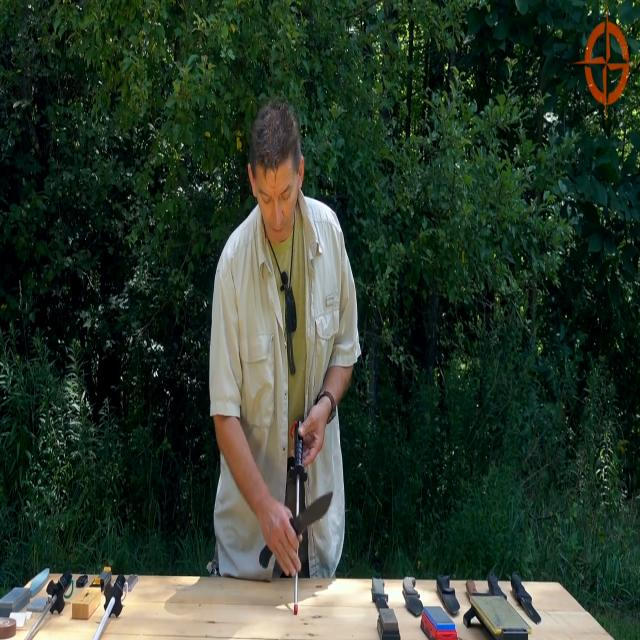knife: (295, 486, 334, 547), (511, 572, 543, 625), (402, 572, 424, 622), (437, 571, 460, 617)
